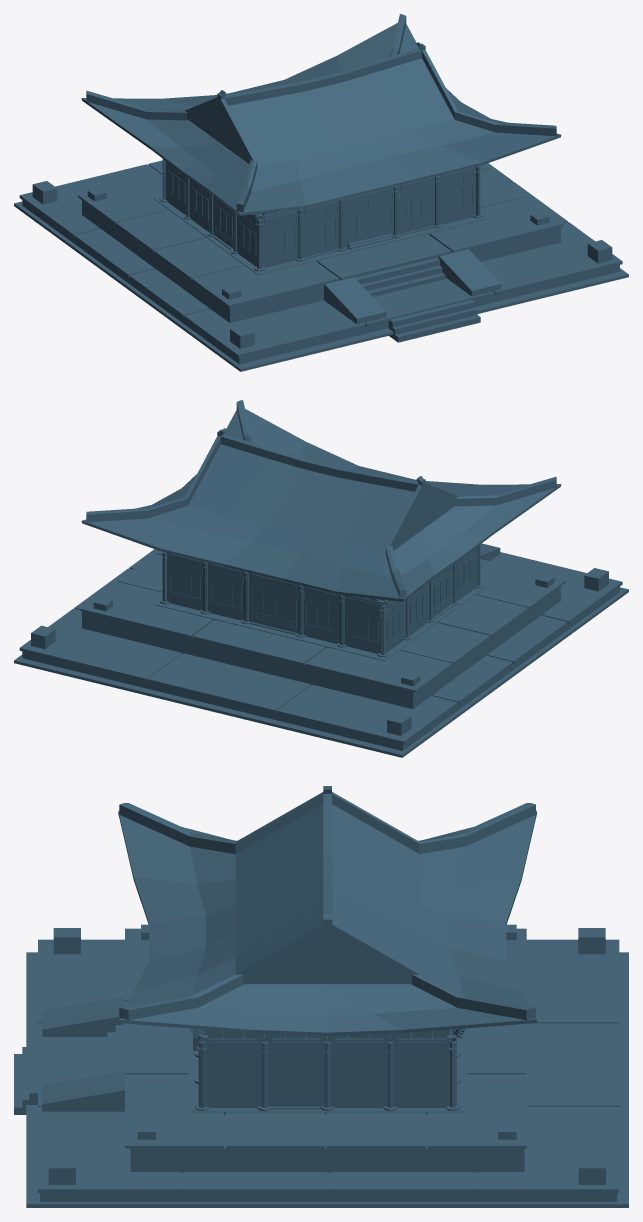
File: hansol-gung.gltf
3 renders of one model, top to bottom at view 1: azimuth 30°, elevation 25°; view 2: azimuth 150°, elevation 25°; view 3: azimuth 270°, elevation 25°, orthographic. The views are drawn at different scales.
Visible parts, largest first — view 1: Gung; view 2: Gung; view 3: Gung.
Part boxes in pixels (x1,y1,x2,y2): Gung: (14,14,628,371); Gung: (14,400,628,757); Gung: (14,786,628,1207).
Bounding box in the file's own units: 0.0443 × 0.0195 × 0.0456.
Materials: 1 (1 with a texture image).
